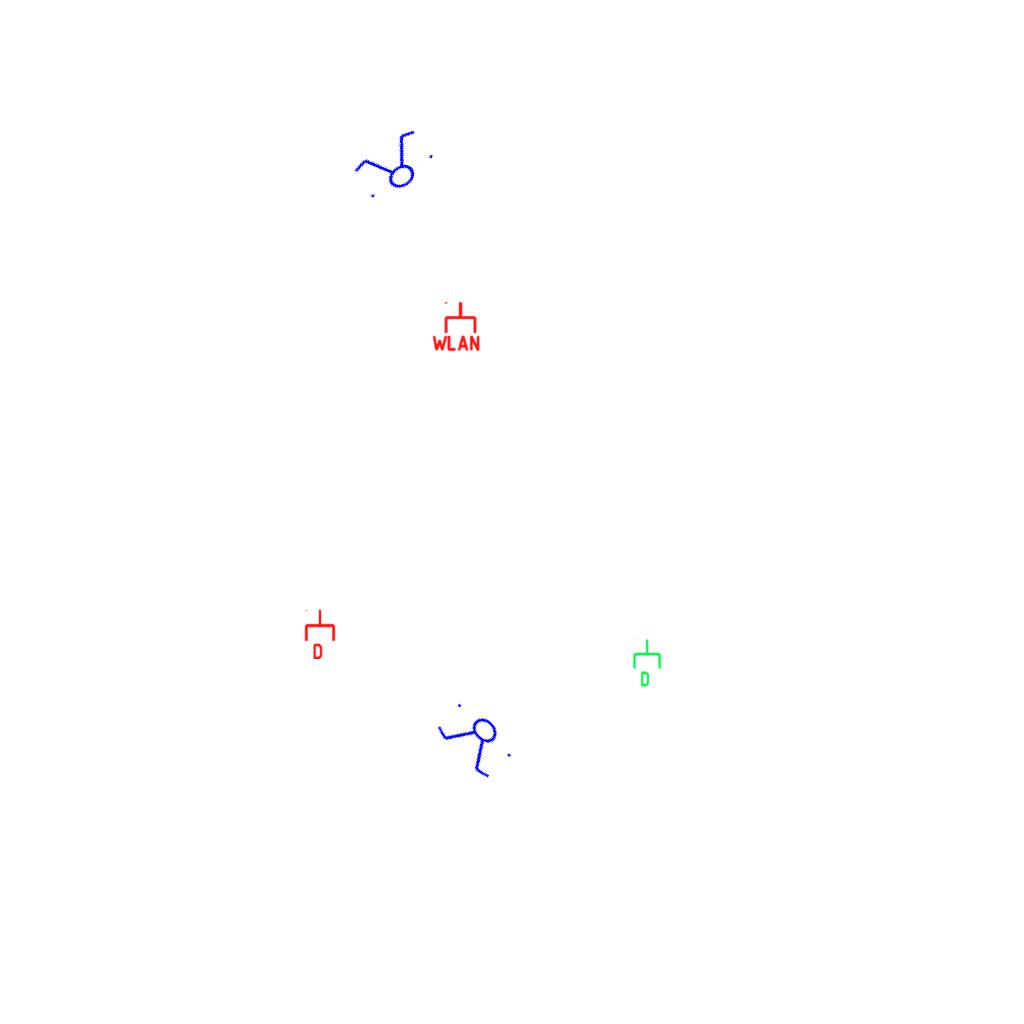Datenanschluss_einfach: (631, 638, 665, 688), (303, 609, 337, 659)
Serienschalter: (429, 693, 523, 787), (345, 122, 443, 210)
WLAN: (430, 300, 482, 352)
